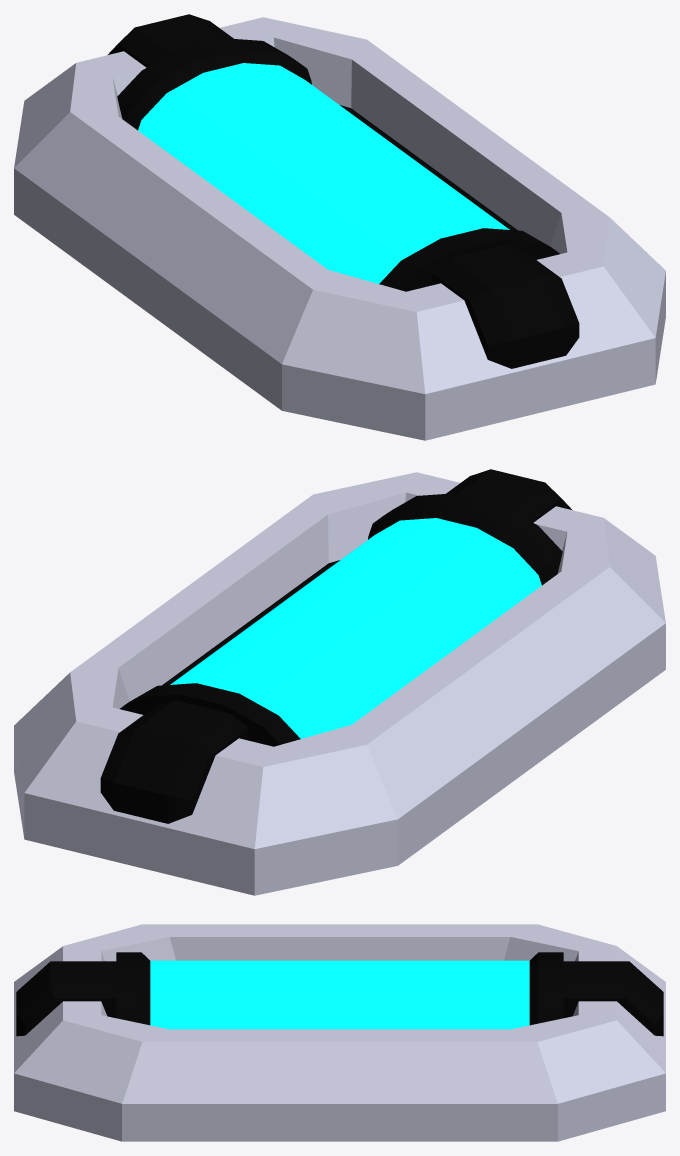
Rendered from LED_Light.fbx.
The picture shows the model from 3 angles, top to bottom: view 1: azimuth 30°, elevation 25°; view 2: azimuth 150°, elevation 25°; view 3: azimuth 270°, elevation 25°; orthographic projection. The views are drawn at different scales.
Visible parts, largest first — view 1: LED_GEO; view 2: LED_GEO; view 3: LED_GEO.
Boxes of the visible parts, <box> form: LED_GEO: <box>14,14,665,440</box>; LED_GEO: <box>14,469,665,895</box>; LED_GEO: <box>14,924,665,1141</box>.
Size of the model in its own units: 26.19 by 7.94 by 47.36.
